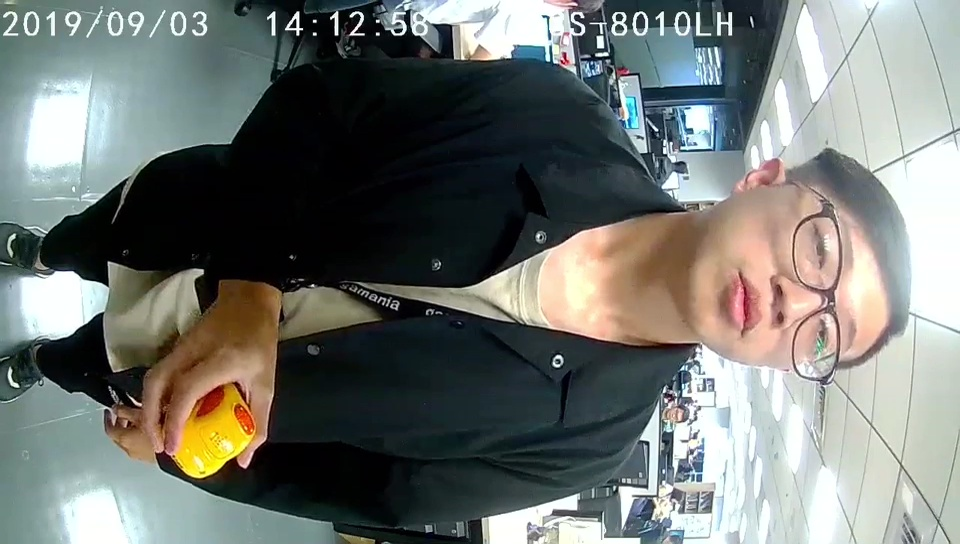car: (173, 380, 254, 479)
